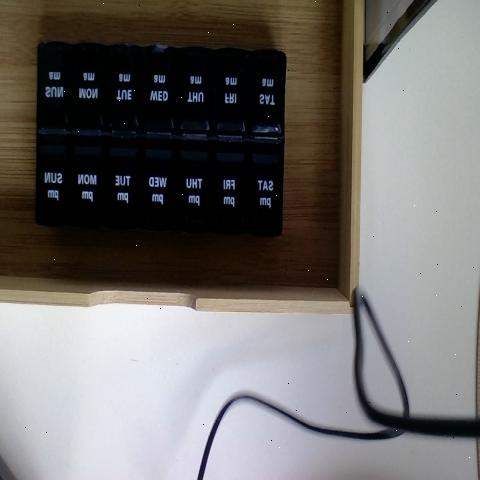FRI-am: (211, 57, 246, 144)
FRI-pm: (207, 177, 242, 262)
MON-am: (74, 49, 108, 140)
MON-pm: (70, 167, 107, 250)
SAT-am: (242, 55, 283, 144)
SAT-pm: (241, 170, 277, 261)
SUN-am: (36, 48, 70, 146)
SUN-pm: (36, 167, 71, 251)
THU-am: (178, 54, 211, 147), (109, 54, 140, 143)
THU-pm: (172, 164, 208, 260)
TUE-pm: (103, 166, 138, 249)
WED-am: (139, 53, 176, 140)
WED-pm: (136, 169, 172, 260)
